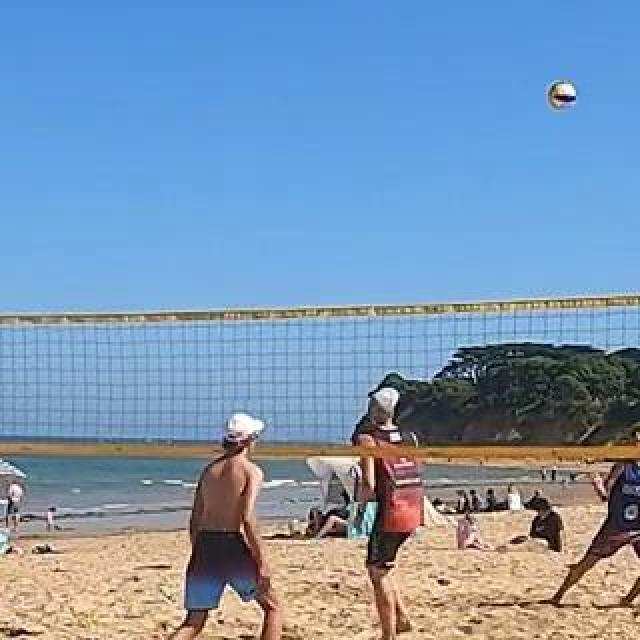volleyball: (549, 83, 577, 111)
